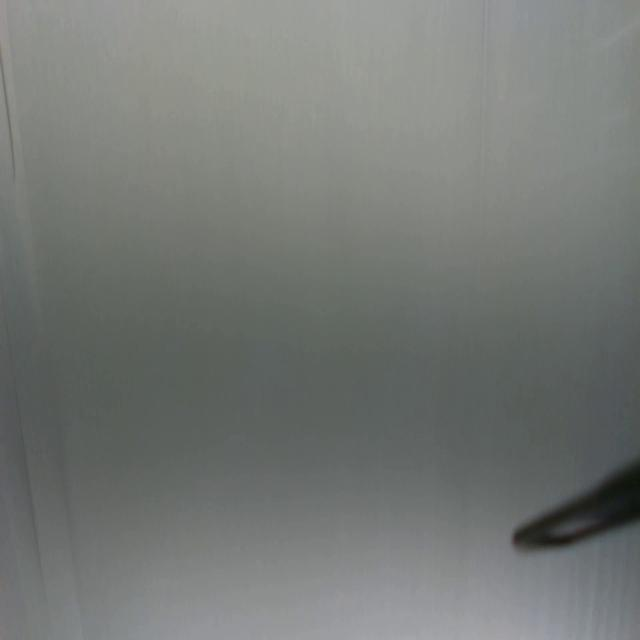crease: (2, 295, 50, 602), (0, 31, 19, 180)
